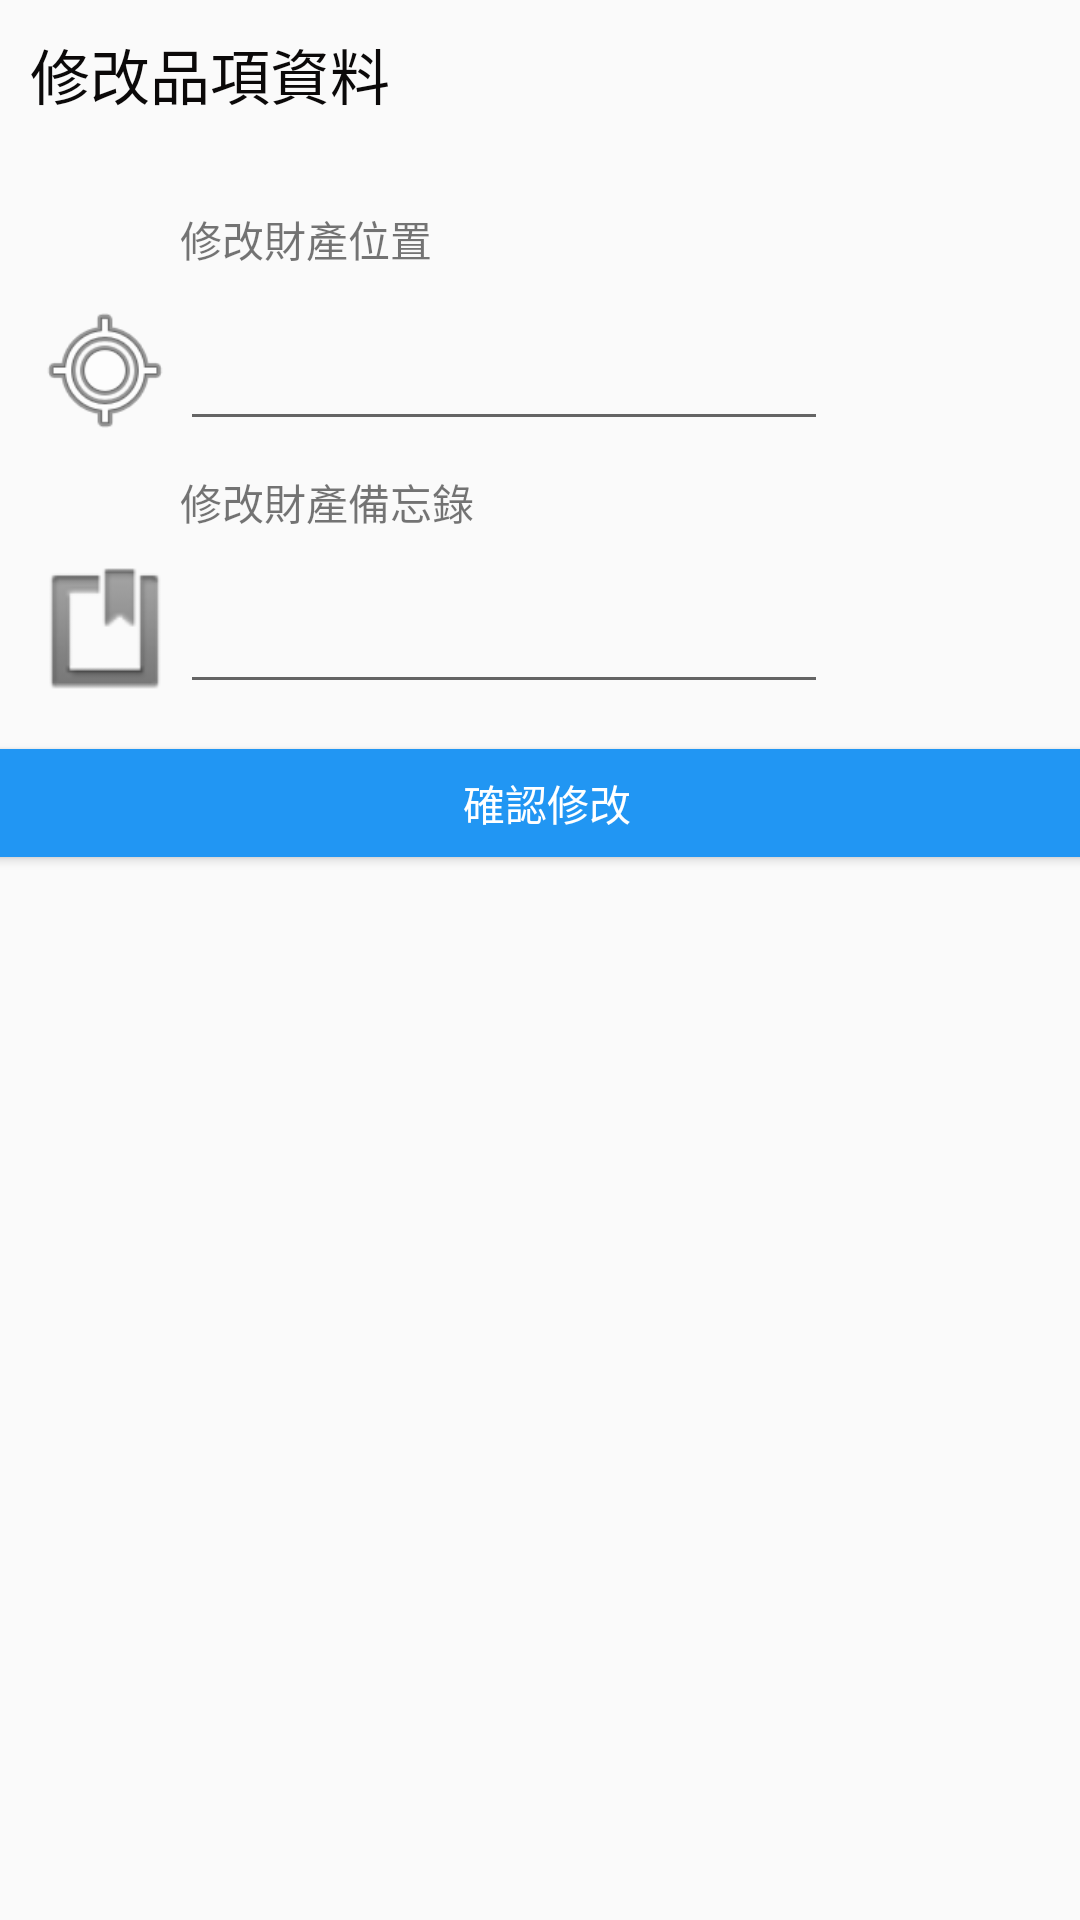

Named icons in this screenshot (1080px×1920px) and their bounding boxes, (left=x1, top=y1, right=x2, bottom=y2):
mylocation: (left=48, top=314, right=161, bottom=427)
